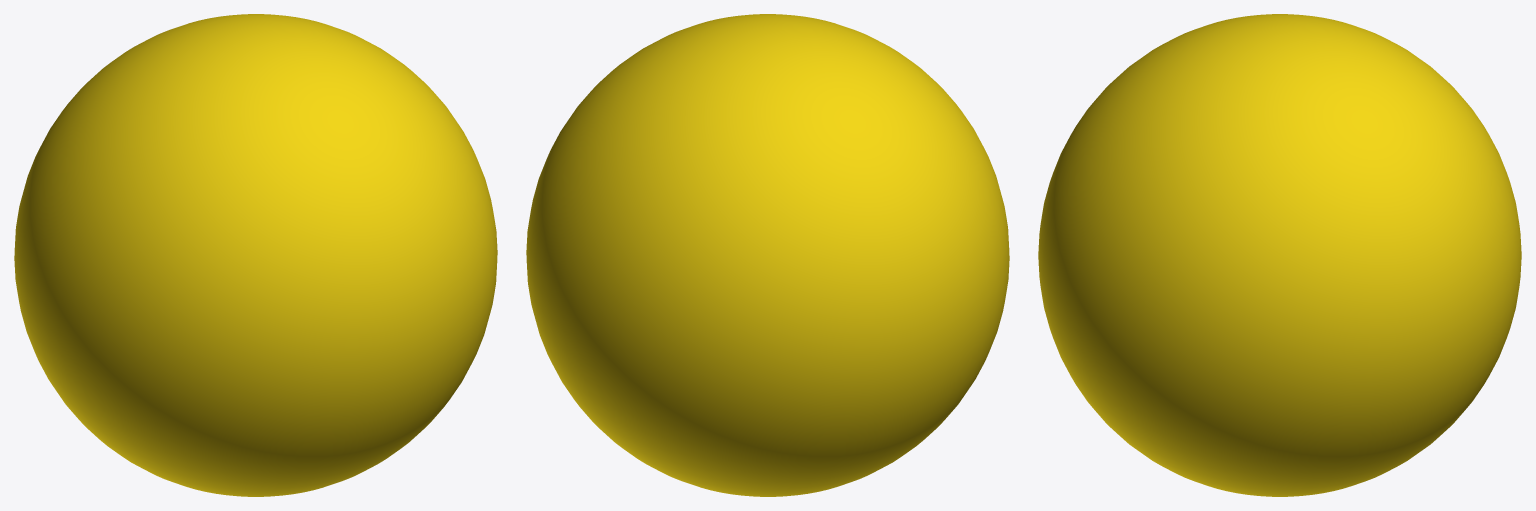
Rendered from Neptune.fbx.
3 views of the same model, side by side, from view 1: azimuth 30°, elevation 25°; view 2: azimuth 150°, elevation 25°; view 3: azimuth 270°, elevation 25° (orthographic).
Parts seen in each view (by area): view 1: SphereThree; view 2: SphereThree; view 3: SphereThree.
Boxes of the visible parts, <box> form: SphereThree: <box>14,14,497,496</box>; SphereThree: <box>526,14,1009,496</box>; SphereThree: <box>1038,14,1521,496</box>.
Bounding box in the file's own units: 191723 × 191723 × 191723.
